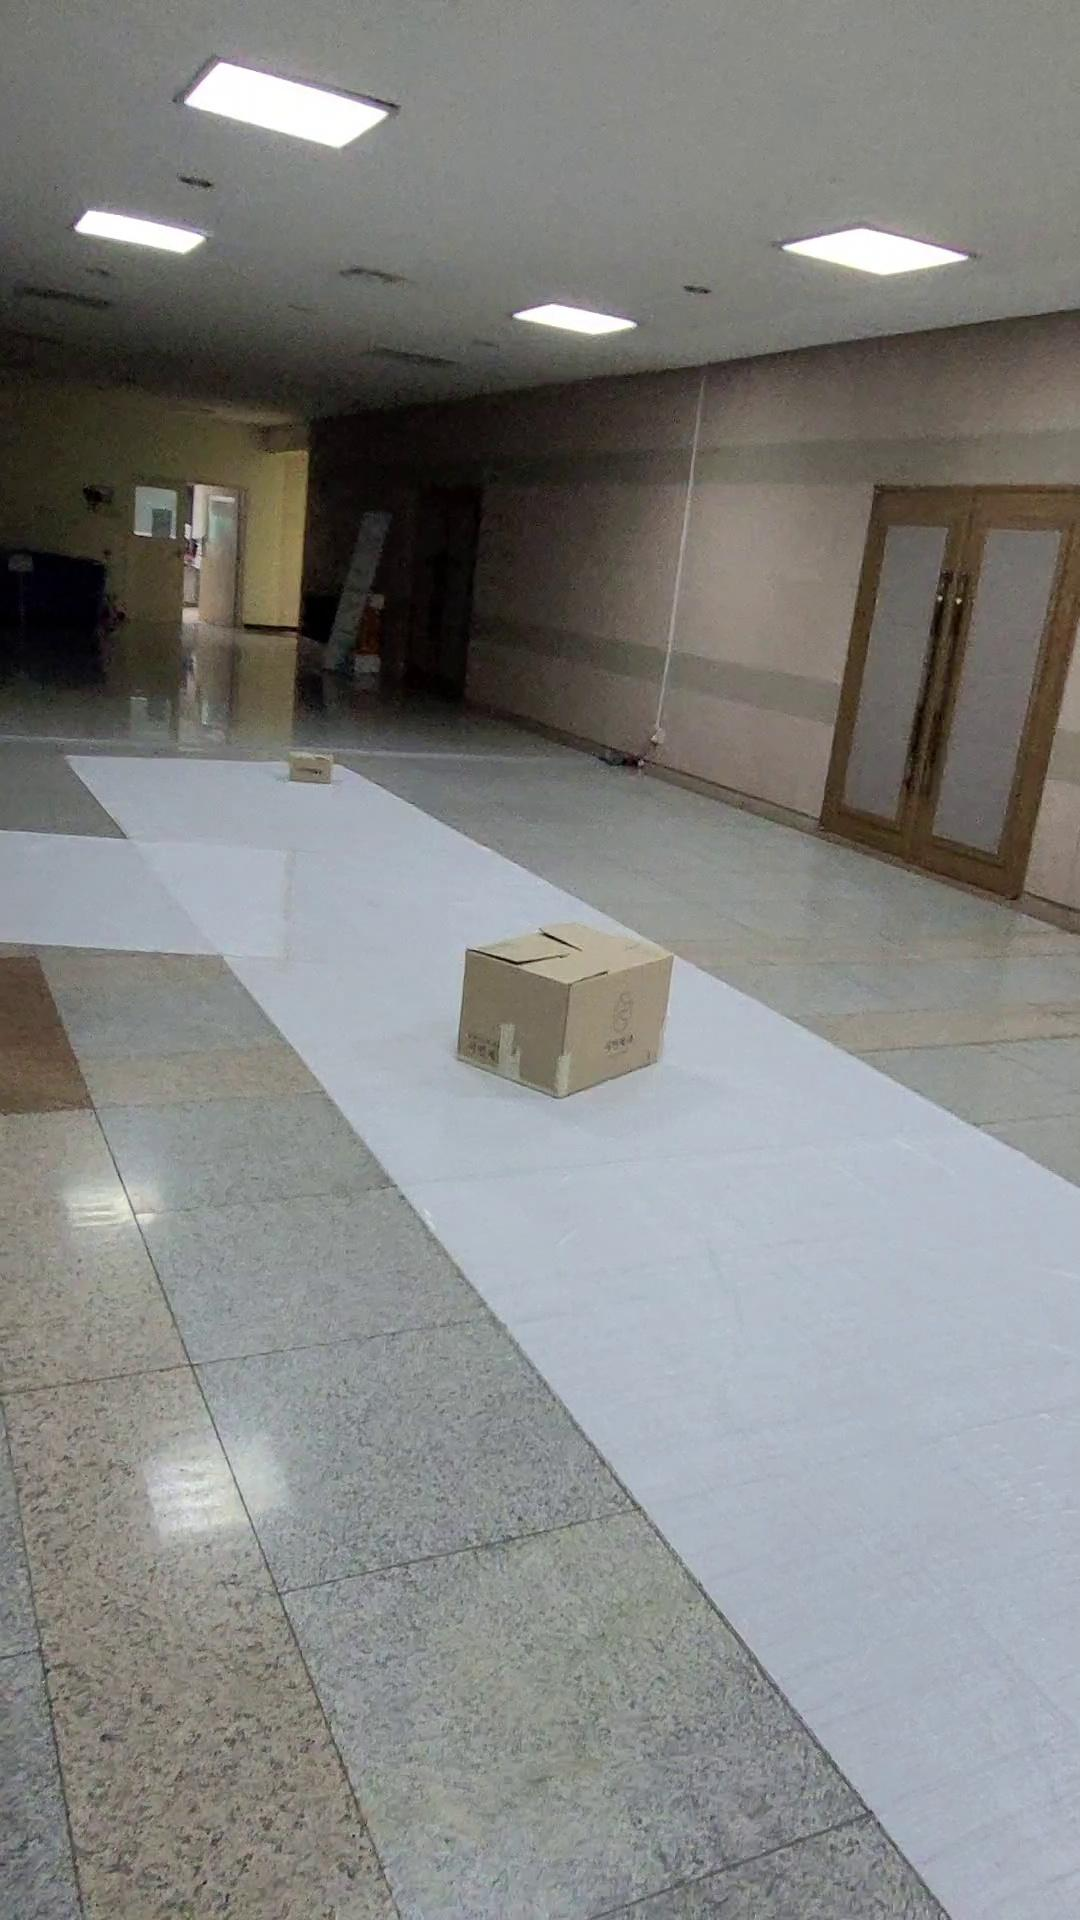Box: (433, 884, 702, 1116), (284, 742, 380, 803)
